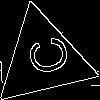C: (18, 33, 71, 80)
